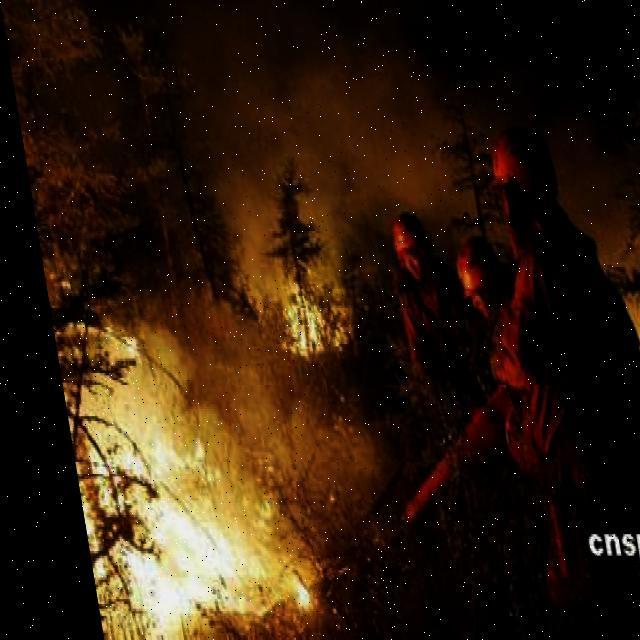Fire: (53, 402, 302, 633), (260, 265, 344, 363), (91, 320, 130, 366)
